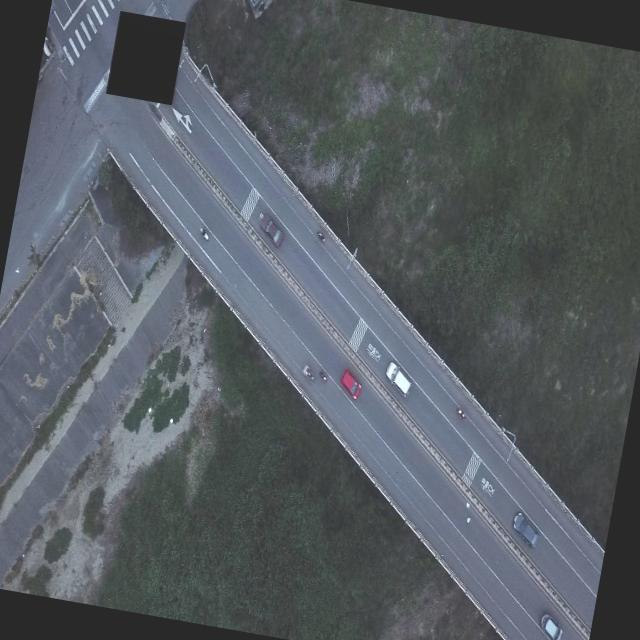bike: (196, 222, 212, 240), (302, 367, 316, 382), (455, 406, 465, 418), (318, 370, 328, 382), (316, 231, 326, 243)
car: (508, 508, 542, 547), (254, 208, 286, 247), (382, 359, 414, 396), (338, 367, 363, 399), (537, 612, 564, 640)
